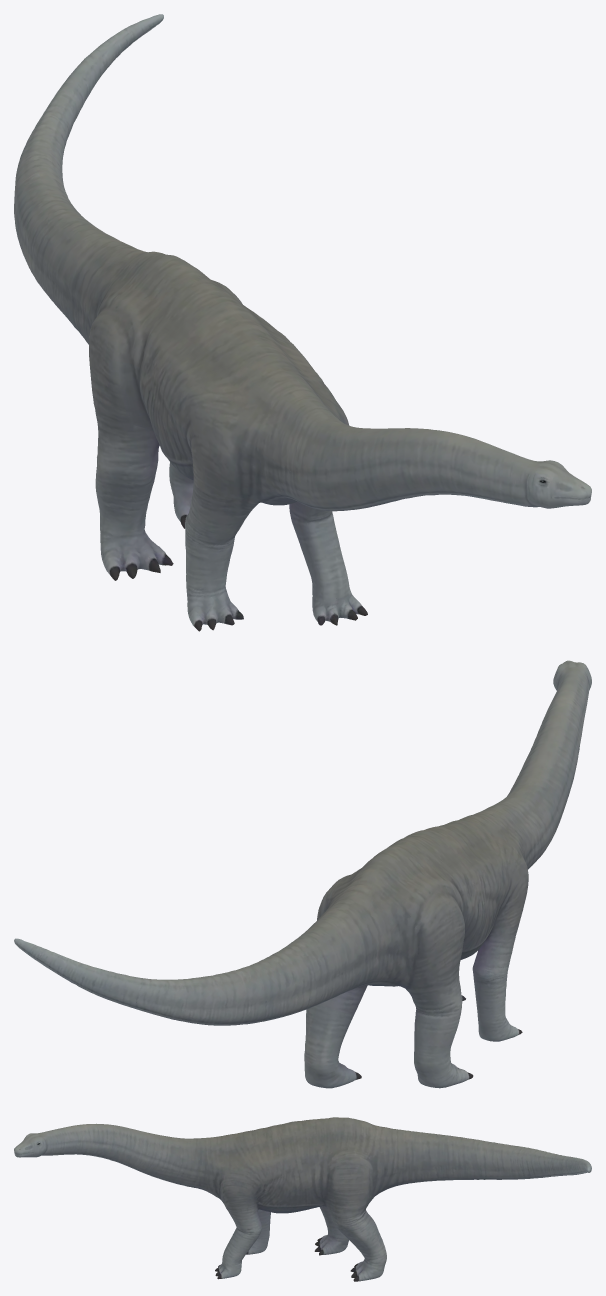
File: MZ4250 - Brontosaurus.glb
3 renders of one model, top to bottom at view 1: azimuth 30°, elevation 25°; view 2: azimuth 150°, elevation 25°; view 3: azimuth 270°, elevation 25°, orthographic. The views are drawn at different scales.
Parts seen in each view (by area): view 1: bront_low.001; view 2: bront_low.001; view 3: bront_low.001.
Boxes of the visible parts, x1,y1,x2,y2 form: bront_low.001: [14, 14, 591, 631]; bront_low.001: [14, 660, 591, 1088]; bront_low.001: [14, 1117, 591, 1281].
Bounding box in the file's own units: 4.07 × 3.65 × 12.7.
1 material, 1 textured.
